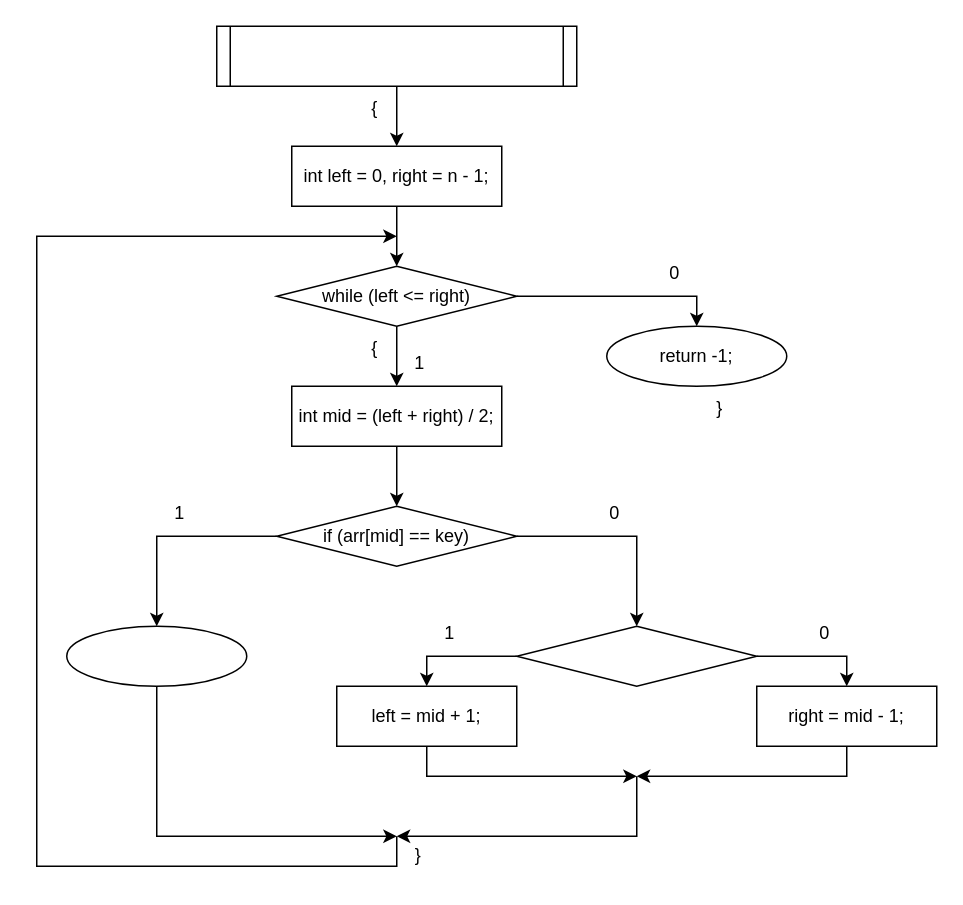
Some shapes in this 963 by 905 pixel diagram are drawn without their labels. Each missing label, with the centre of its shape:
"if (arr[mid] < key)" belongs at point 636,655.
"int binary_search(int* arr, int n, int key)" belongs at point 396,55.
"return mid;" belongs at point 156,655.
